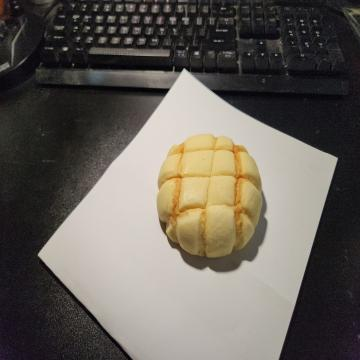melon_bread: (157, 133, 263, 260)
